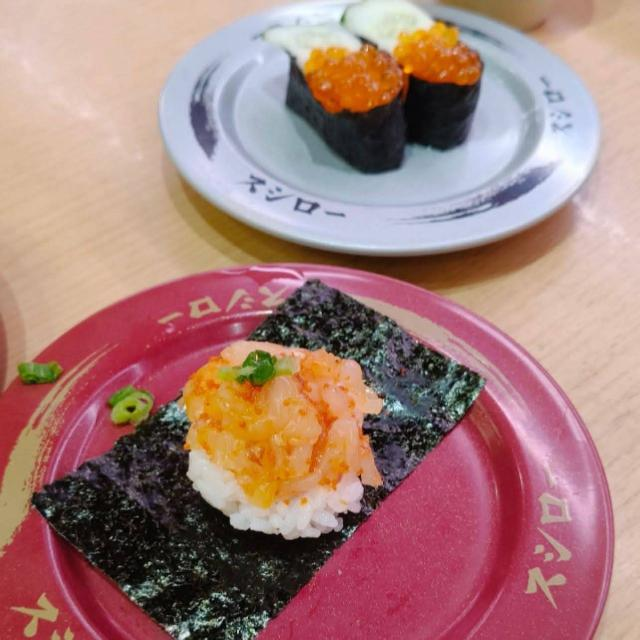janwhite: (285, 164, 640, 255), (487, 16, 632, 180), (159, 51, 287, 219)
